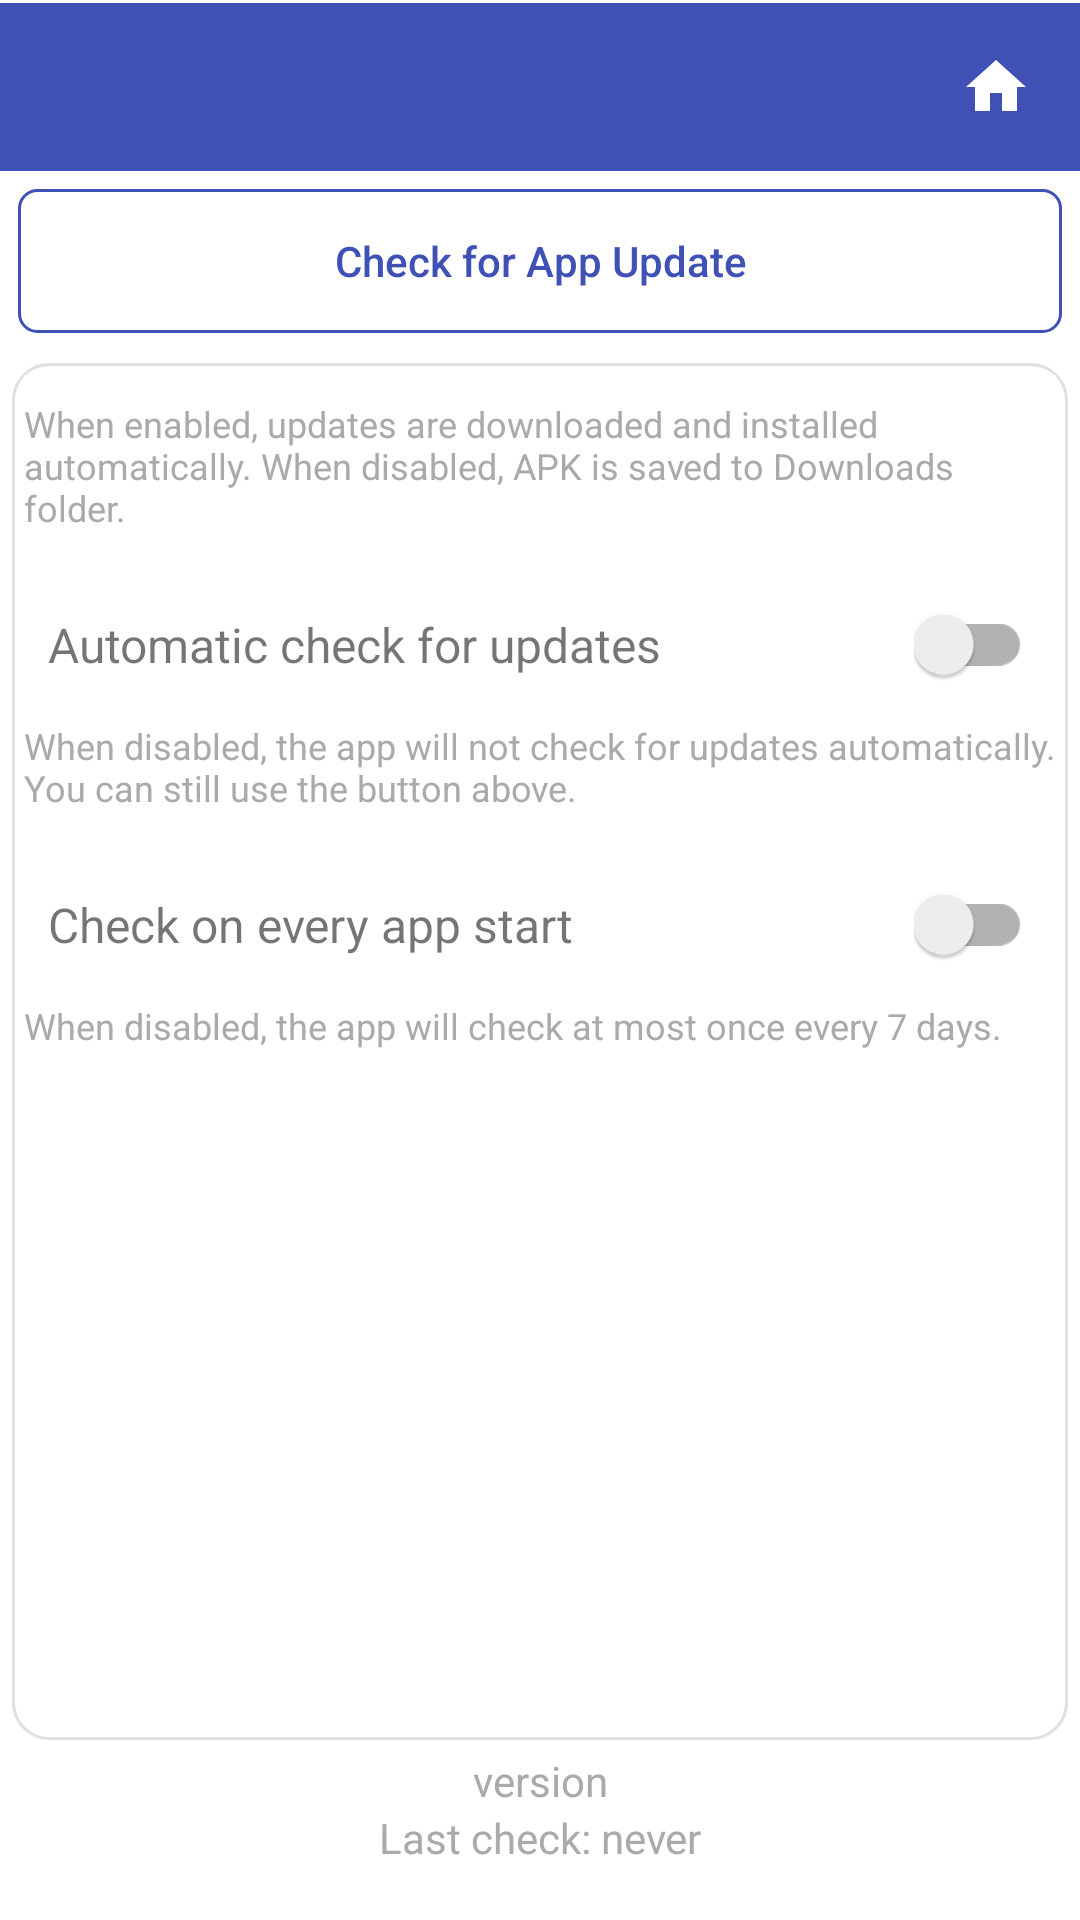

Icons on this 1080×1920 Android screen, each with the point to tap as (x,y):
Home: (996,85)
